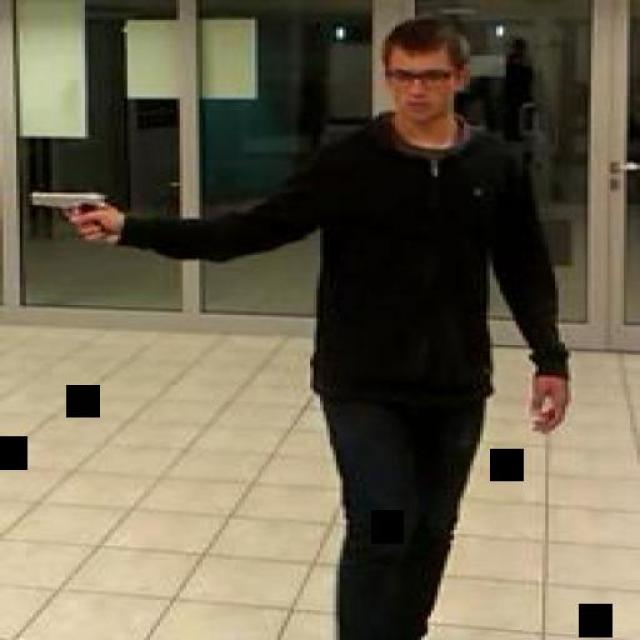gun: (24, 186, 111, 242)
